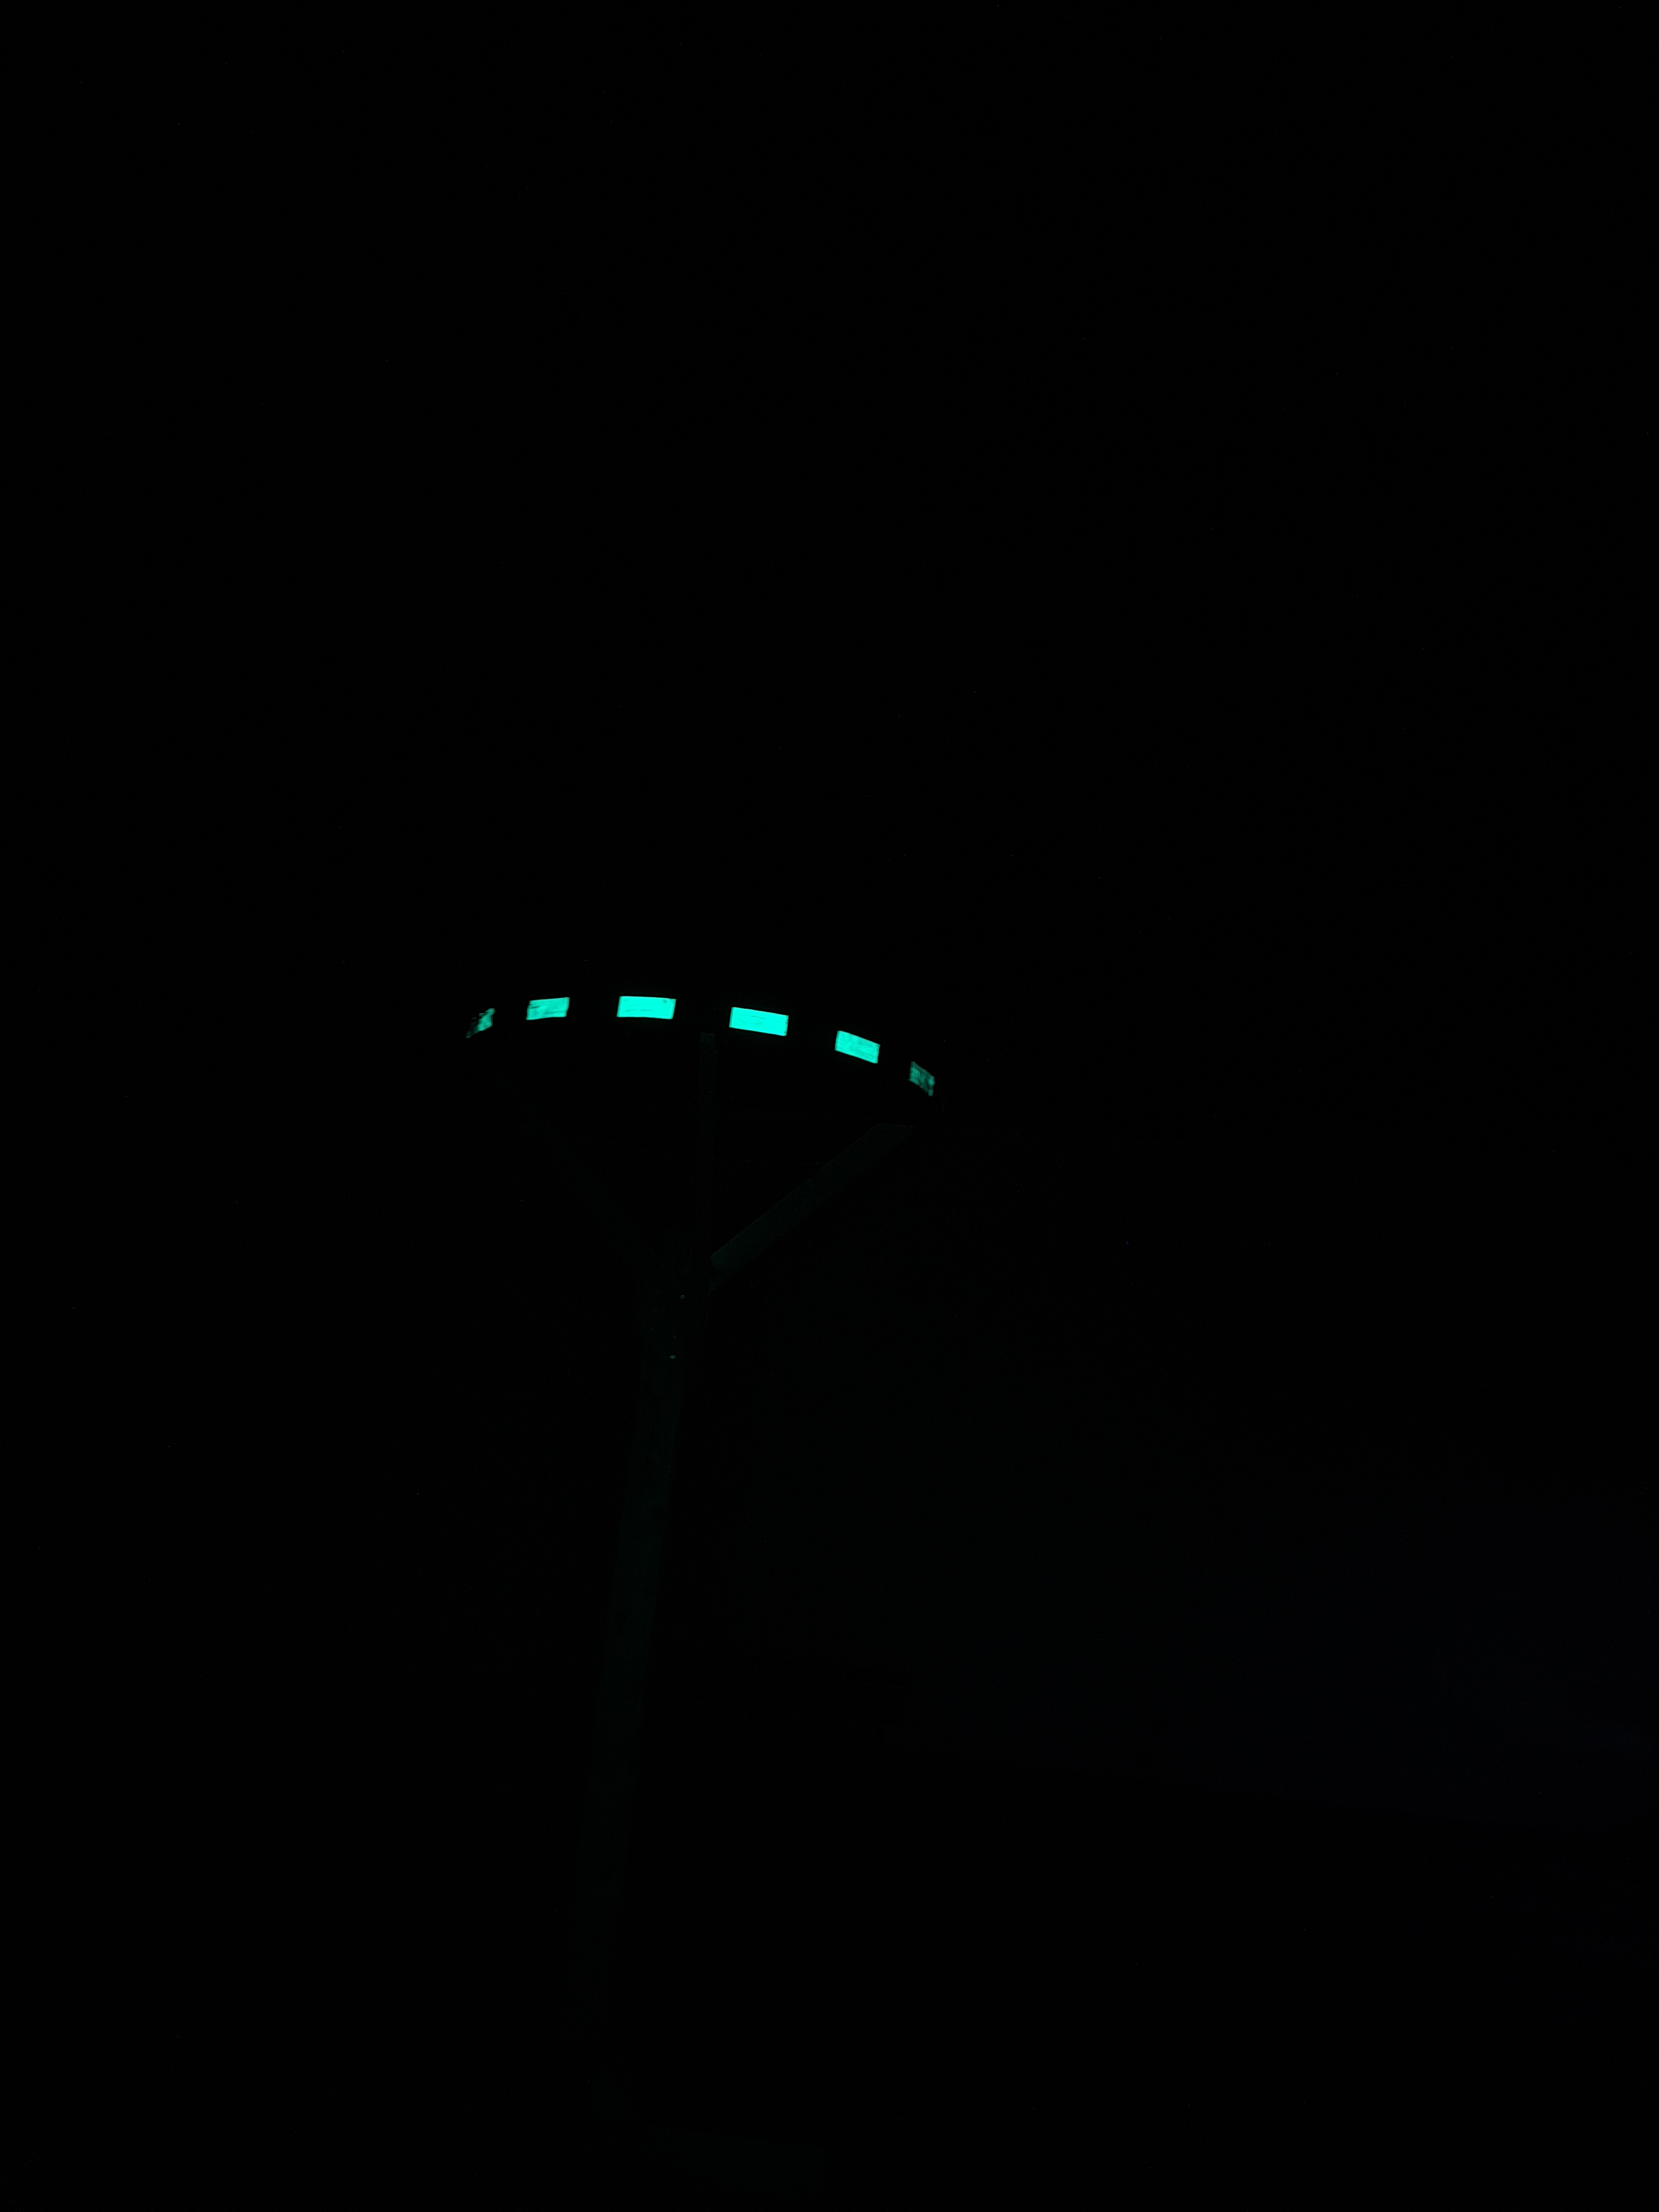hoop: (458, 972, 945, 1115)
